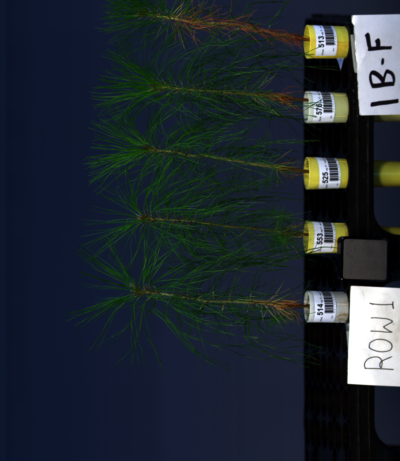tube: (301, 24, 349, 59), (301, 289, 349, 324), (302, 217, 350, 252), (302, 154, 350, 189), (302, 89, 350, 124)
